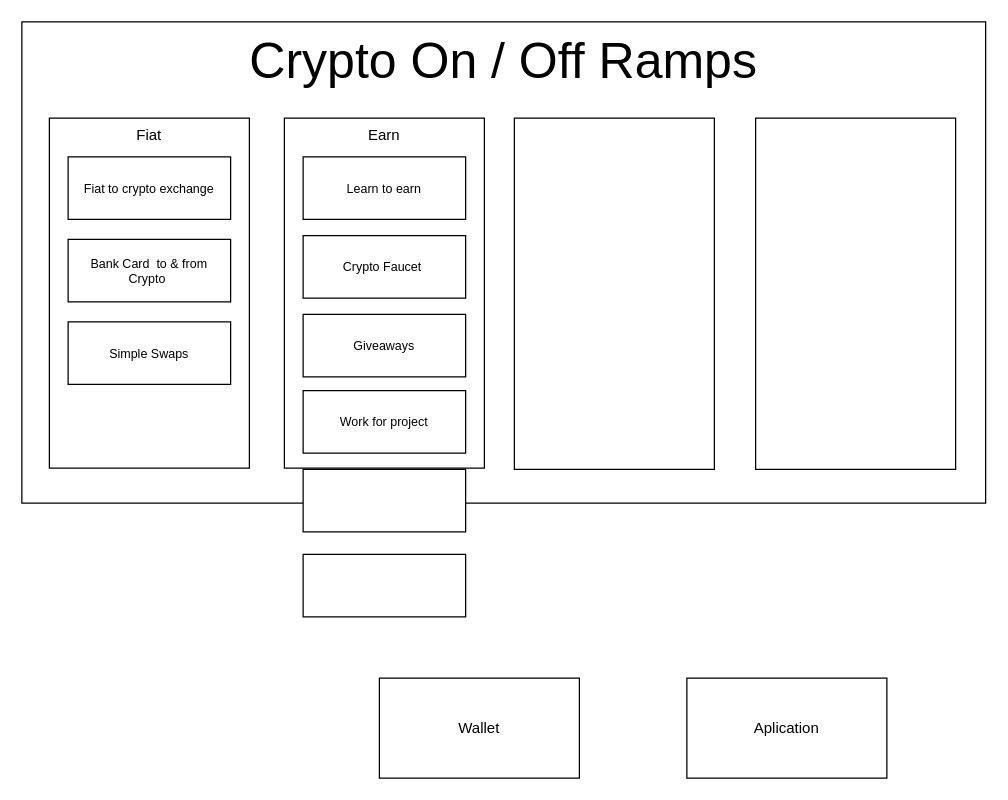
This 1008x800 diagram has some shape labels left out. The centre of each missing label's shape, as x and y in pixels:
"Exchange" goes at (855,293).
"Market Maket" goes at (384,500).
"Miner / validator" goes at (384,585).
"Recieve" goes at (613,293).
